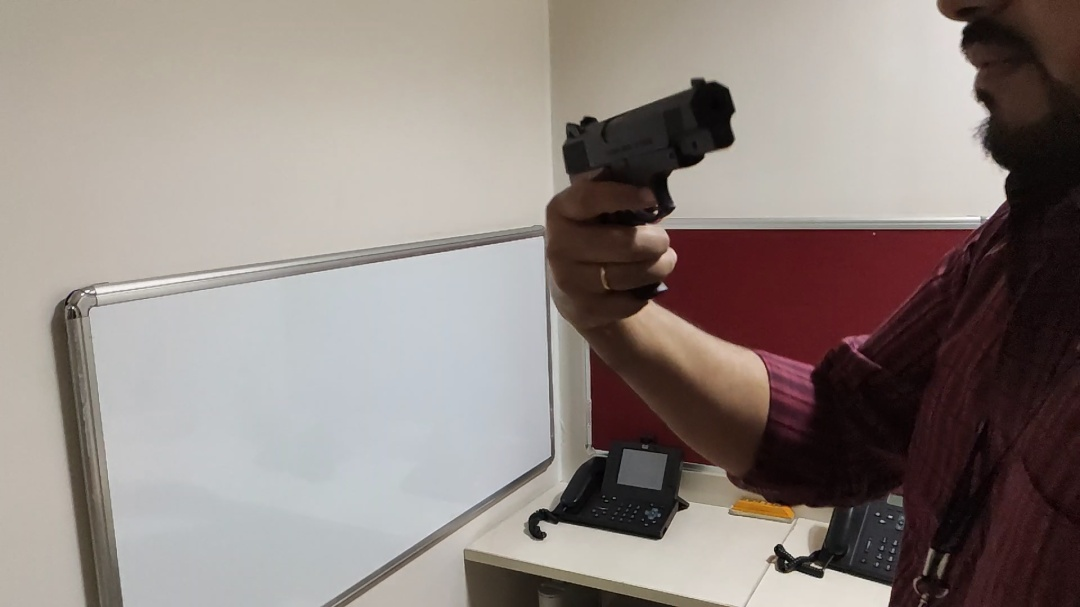gun: (531, 70, 750, 309)
